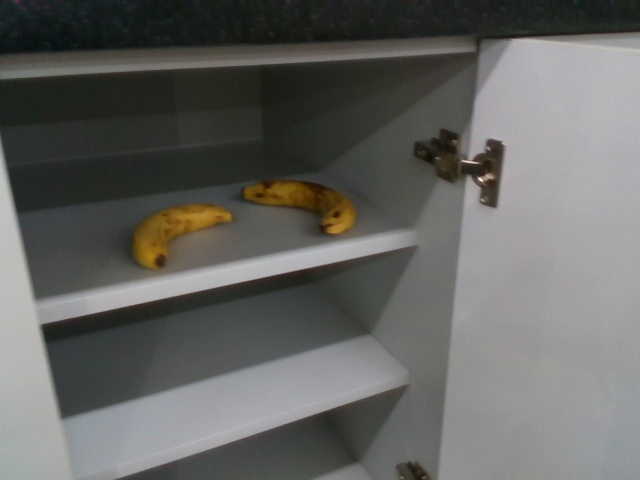banana: (127, 203, 233, 272), (237, 181, 359, 236)
